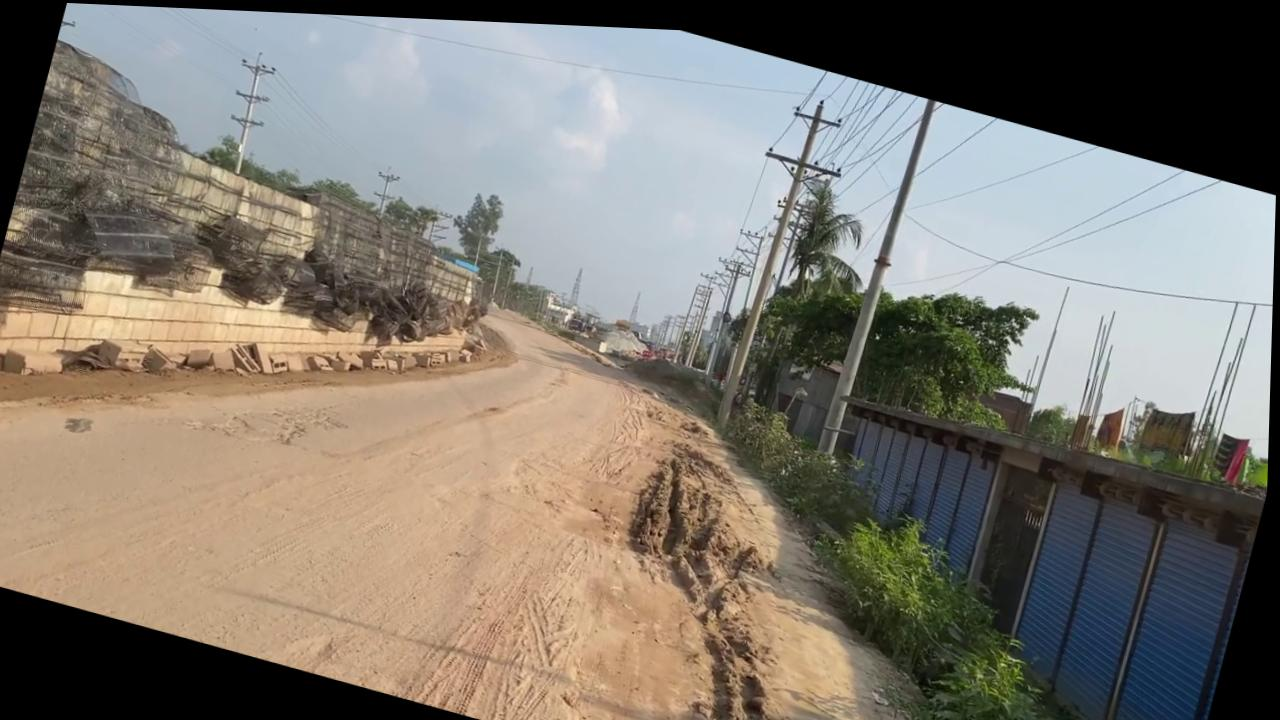Muddy road: (0, 171, 1125, 720)
Pole: (696, 78, 857, 434), (816, 82, 937, 454)
Rickshaw: (558, 375, 1113, 720)
Traffic-sign: (723, 154, 888, 418), (444, 179, 509, 268)
Tree: (540, 286, 597, 329), (564, 298, 603, 332), (541, 285, 571, 320)
Upstairs: (0, 34, 534, 502)
